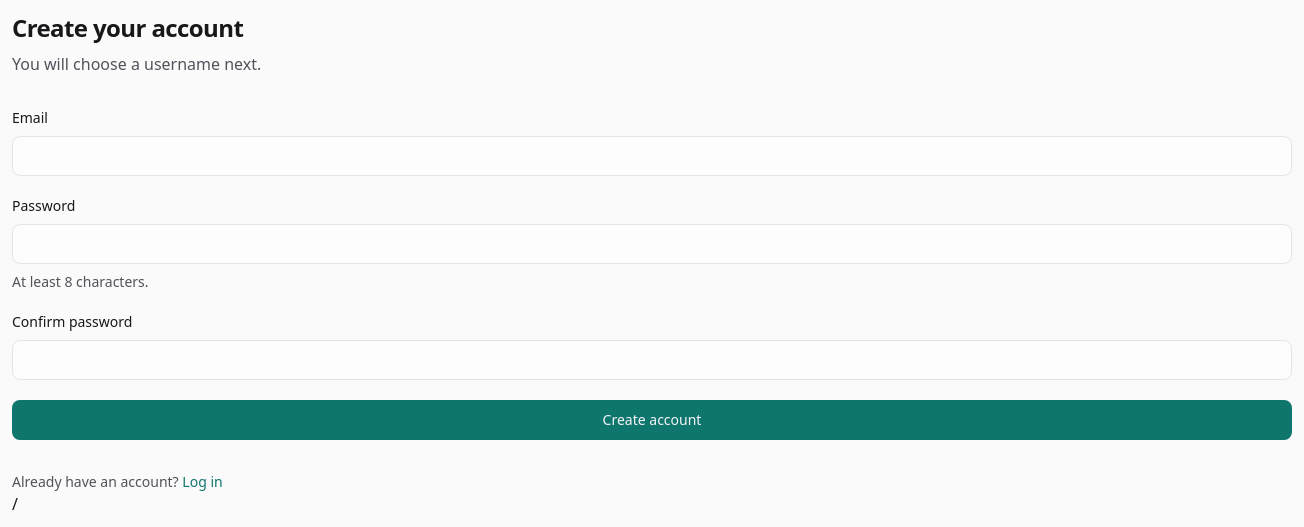
Test: Register › asks the user to confirm their email after signing up
The width and height of the screenshot is (1304, 527).
Type "maya@example.test" into the field labelled "Email" at (652, 156), box [12, 136, 1292, 176]
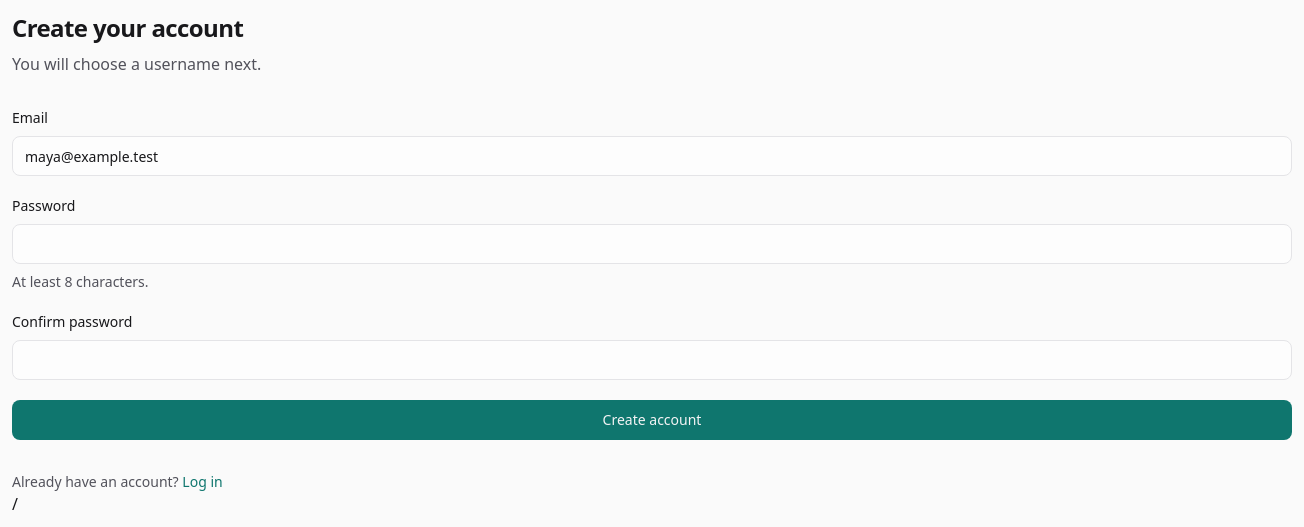
Type "correct horse" into the password field labelled "Password" at (652, 244), box [12, 224, 1292, 264]
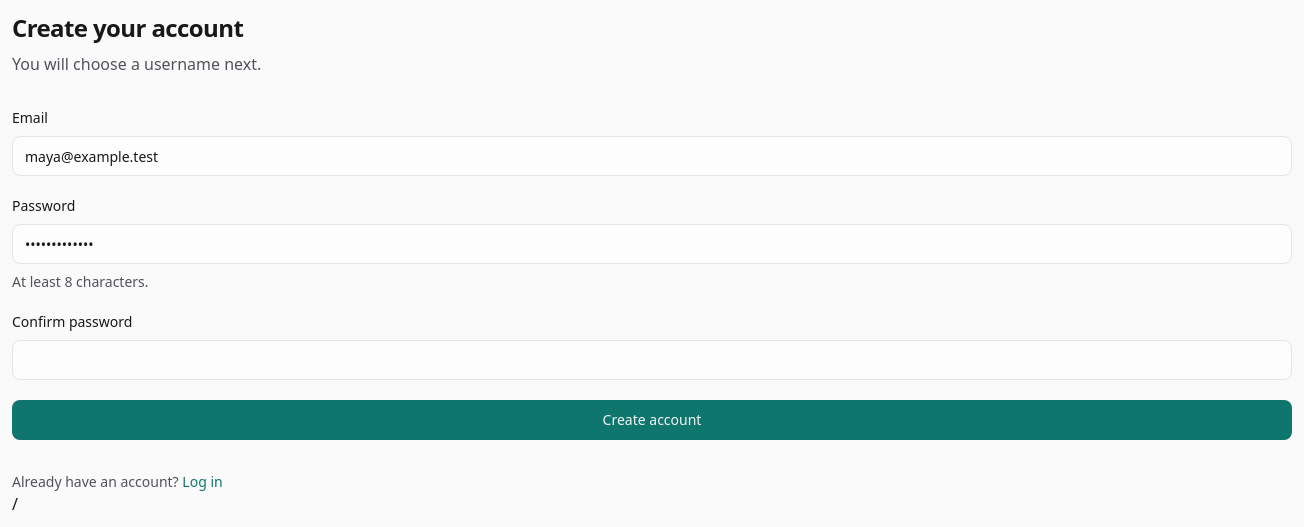
Type "correct horse" into the password field labelled "Confirm password" at (652, 360), box [12, 340, 1292, 380]
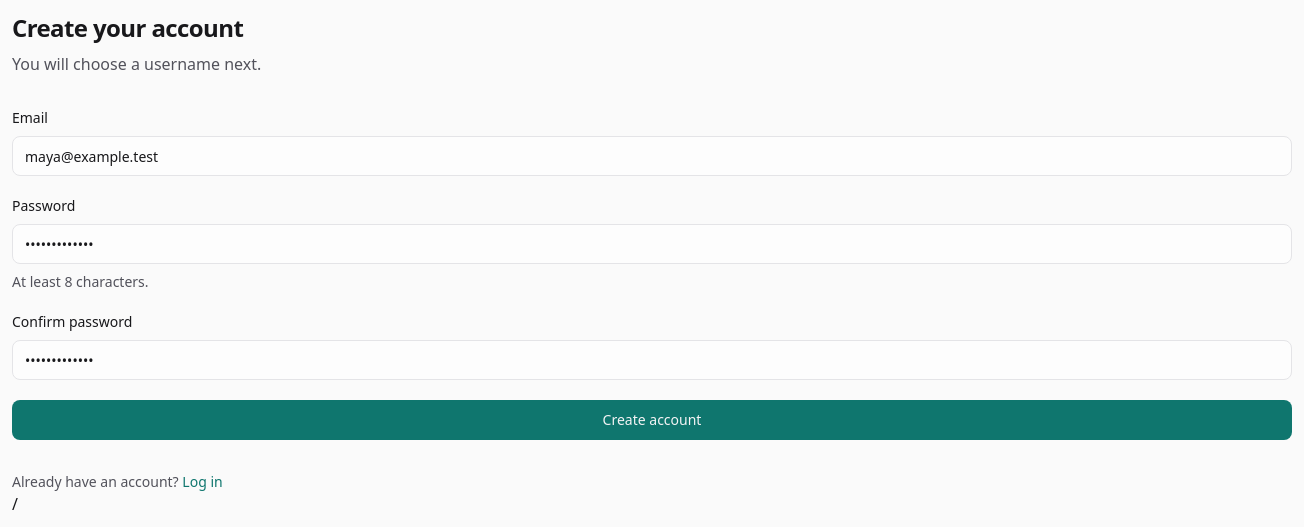
Click the button "Create account" at (652, 420), box [12, 400, 1292, 440]
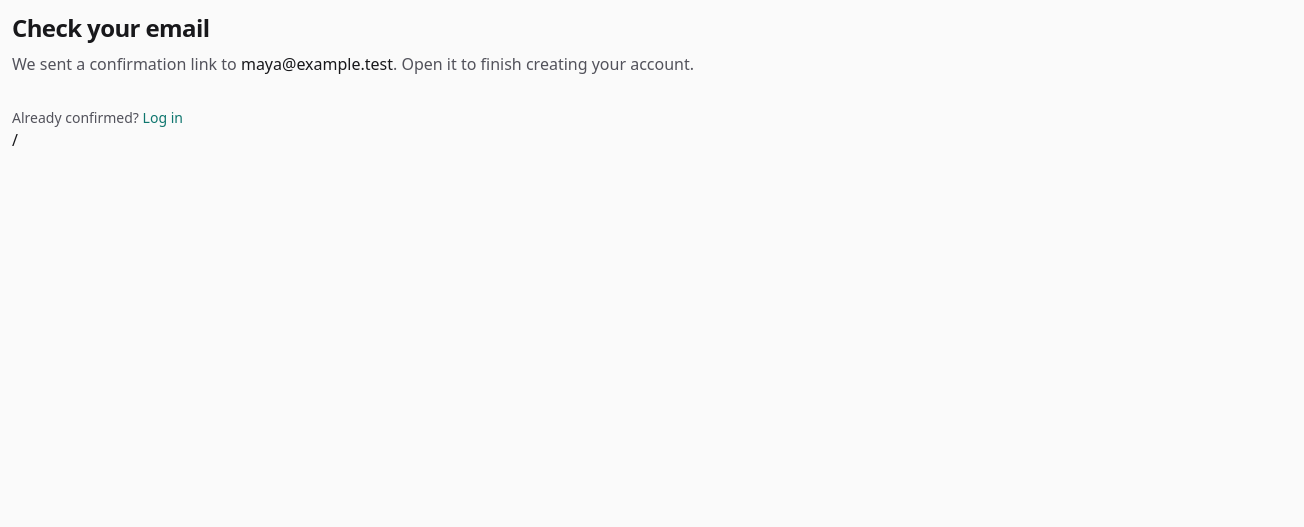
Expected: the heading "Check your email" is shown, [12, 11, 209, 44]
Expected: the text "maya@example.test" is shown, [241, 53, 393, 75]
